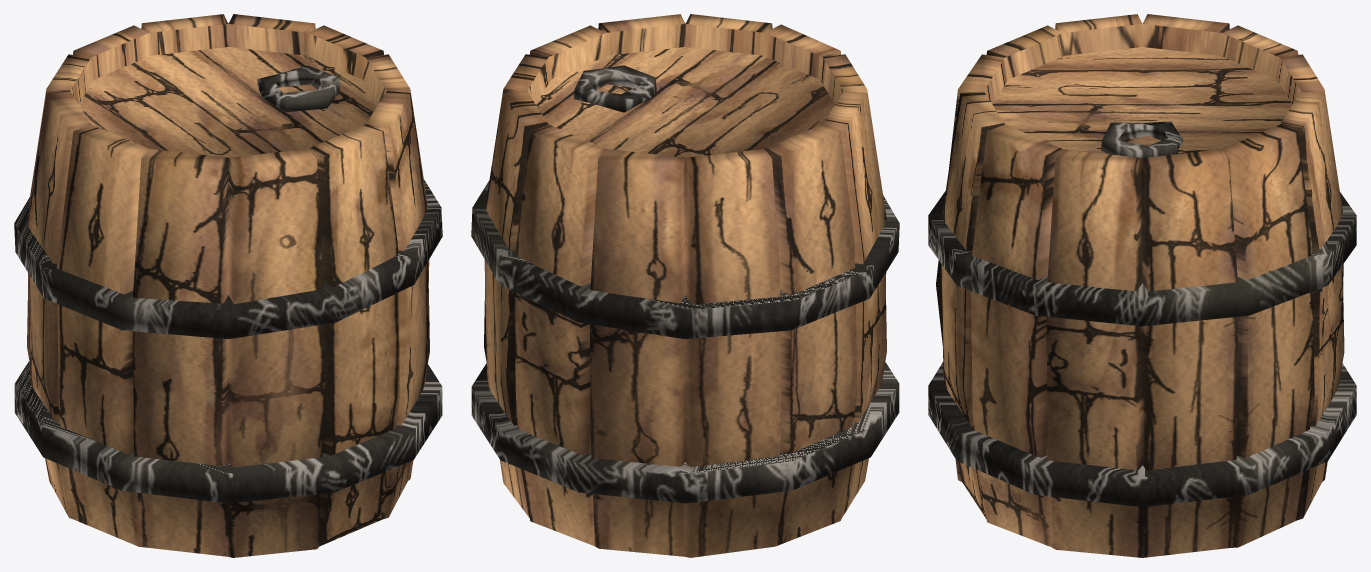
The model's file is barrell.glb.
The picture shows the model from 3 angles, left to right: view 1: azimuth 30°, elevation 25°; view 2: azimuth 150°, elevation 25°; view 3: azimuth 270°, elevation 25°; orthographic projection.
Parts seen in each view (by area): view 1: Barrel; view 2: Barrel; view 3: Barrel.
Part boxes in pixels (x1,y1,x2,y2): Barrel: (14,14,442,557); Barrel: (471,14,899,557); Barrel: (928,14,1356,557).
Bounding box in the file's own units: 0.4538 × 0.4558 × 0.4528.
2 materials, 2 textured.
